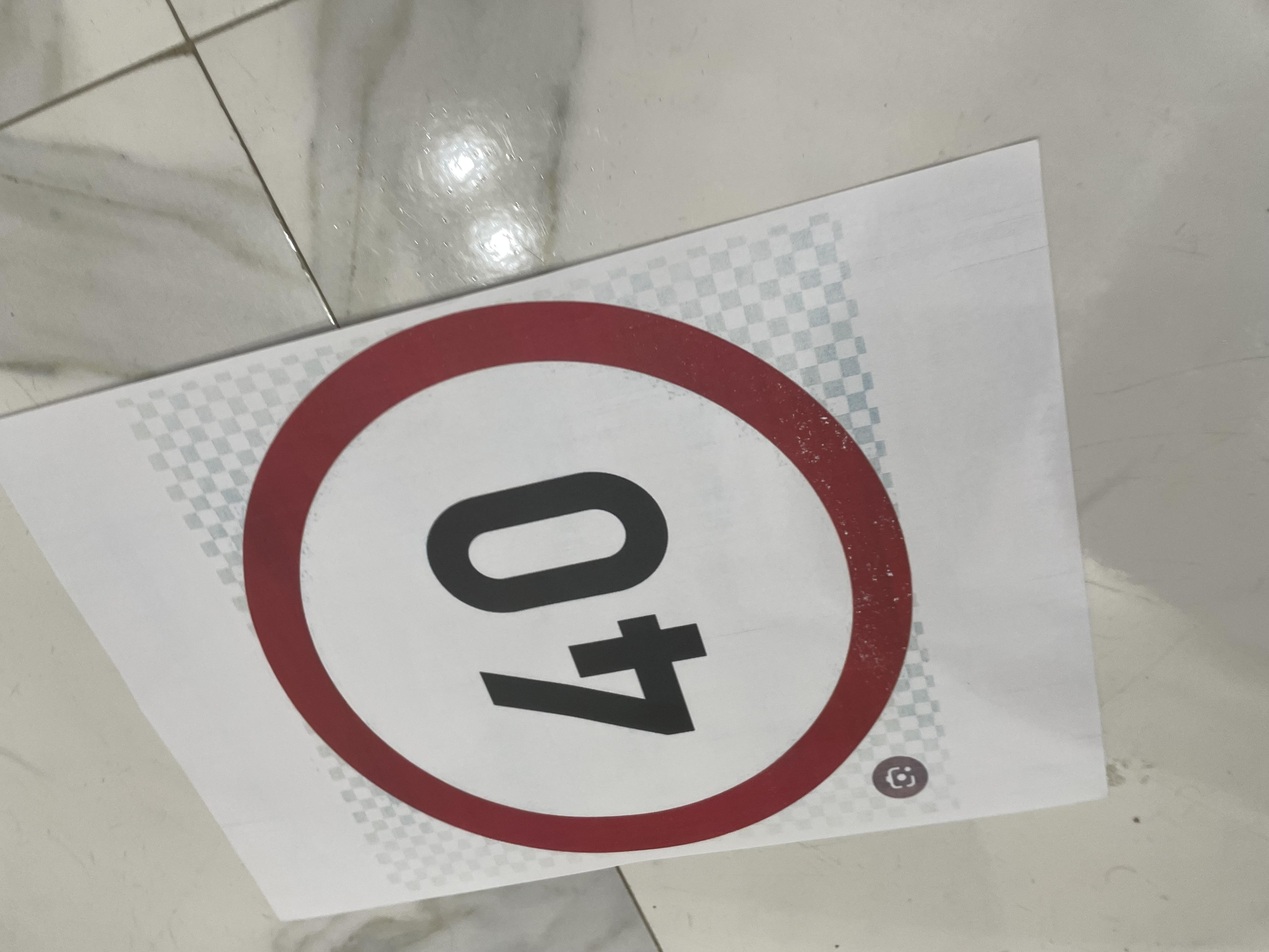40-Speed: (110, 178, 892, 685)
